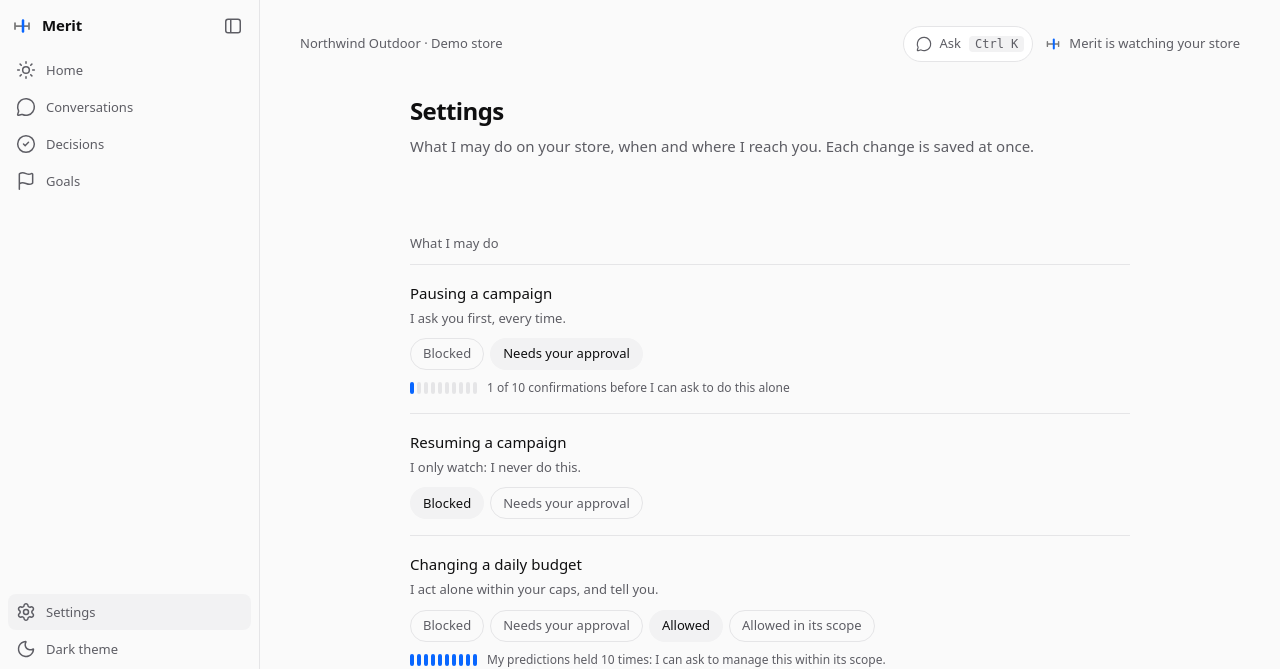
Scenario: Settings › offers acting alone only once earned, and saves a rule at once
This screenshot has width=1280, height=669.
Check: the radio button labelled "Needs your approval" below "Pausing a campaign" is checked, box [490, 338, 643, 370]
Check: the text "1 of 10 confirmations before I can ask to do this alone" is shown, box [410, 379, 790, 396]
Click the radio button labelled "Blocked" below "Pausing a campaign" at (447,354), box [410, 338, 484, 370]
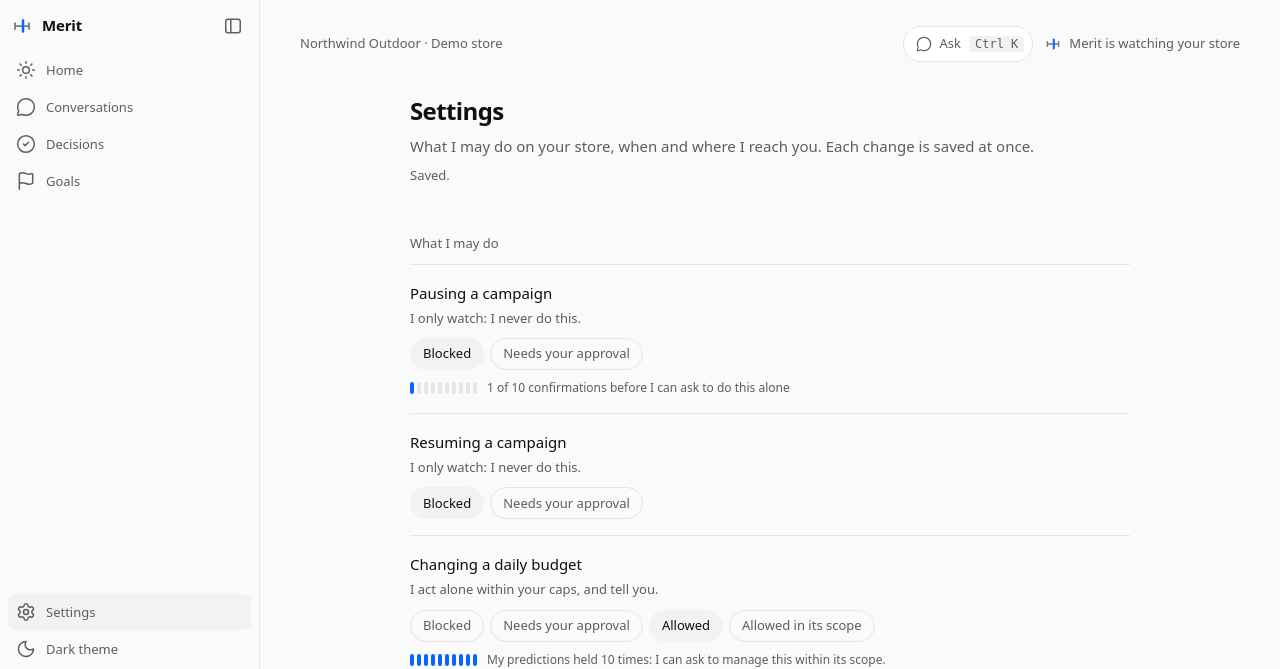
Check: the radio button labelled "Blocked" below "Pausing a campaign" is checked, box [410, 338, 484, 370]
Check: the text "Saved." is shown, box [410, 166, 450, 184]
